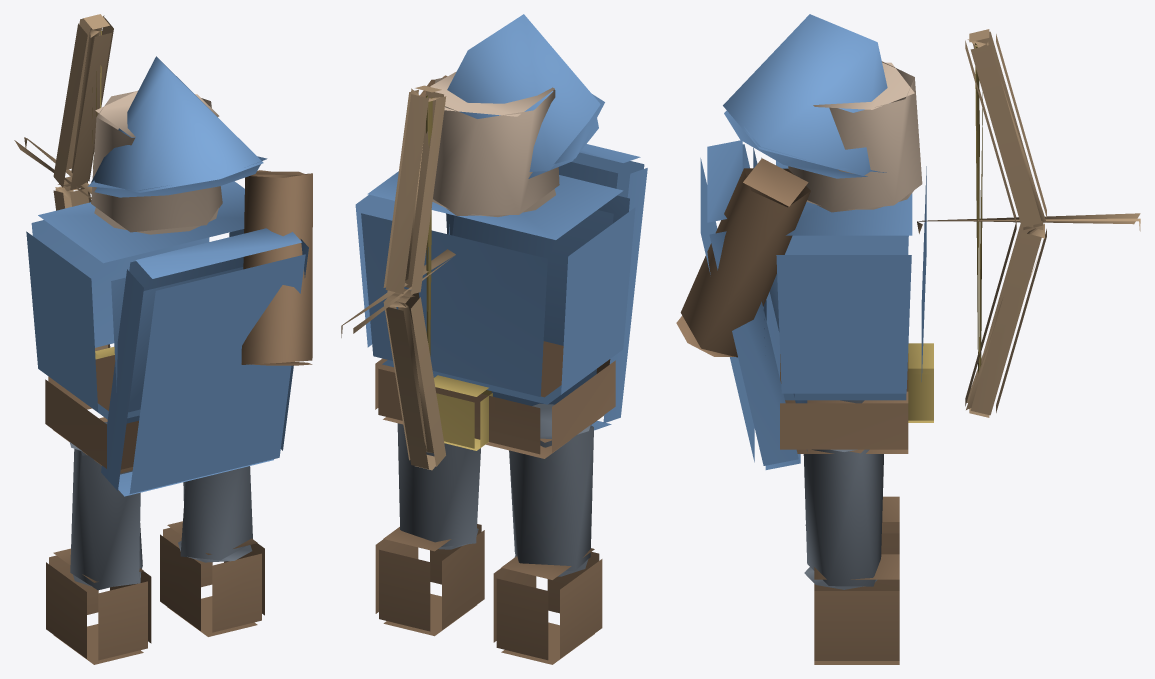
The model's file is lexi_archer_lod2.glb.
The picture shows the model from 3 angles, left to right: view 1: azimuth 30°, elevation 25°; view 2: azimuth 150°, elevation 25°; view 3: azimuth 270°, elevation 25°; orthographic projection. The views are drawn at different scales.
Parts seen in each view (by area): view 1: lexi_archer.001; view 2: lexi_archer.001; view 3: lexi_archer.001.
Boxes of the visible parts, x1,y1,x2,y2 form: lexi_archer.001: (14, 14, 312, 664); lexi_archer.001: (341, 14, 647, 664); lexi_archer.001: (676, 14, 1140, 664).
Size of the model in its own units: 0.571 by 1.48 by 1.03.
